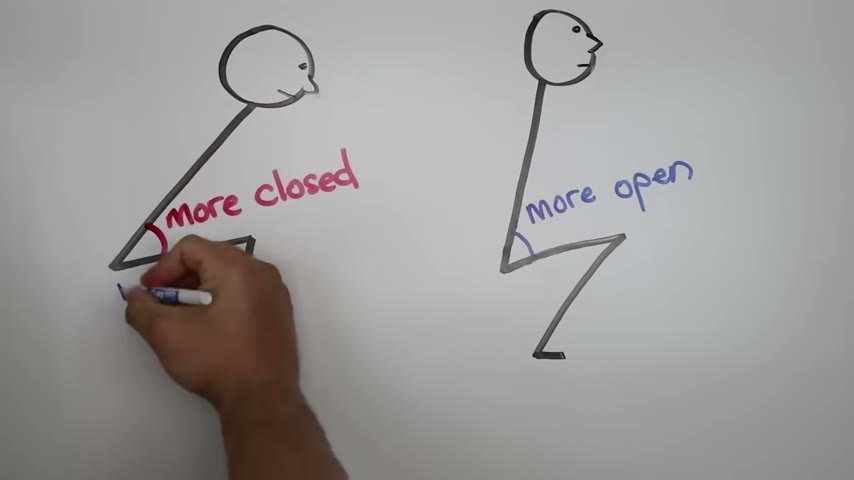barbell_plate_side: (577, 6, 602, 93)
